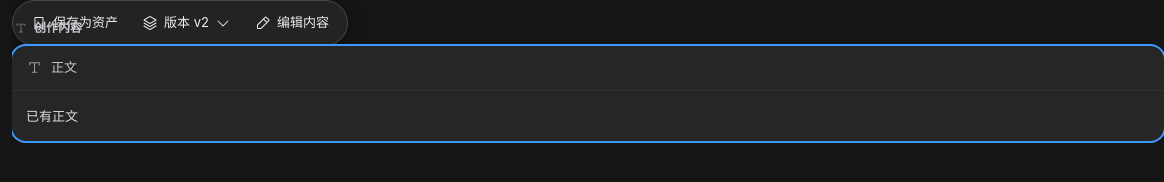
Scenario: ContentCanvasCard › keeps the version in the toolbar and shows an exit action during editing
Click the button "编辑内容" at x=292, y=23, box left=245, top=7, right=339, bottom=39
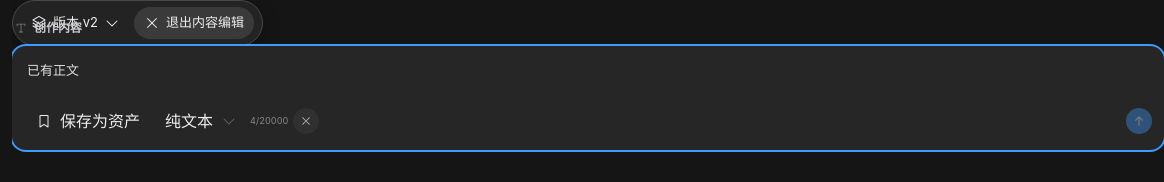
Type "，本地输入" into the text box named "内容" at x=588, y=70, box left=24, top=54, right=1152, bottom=87
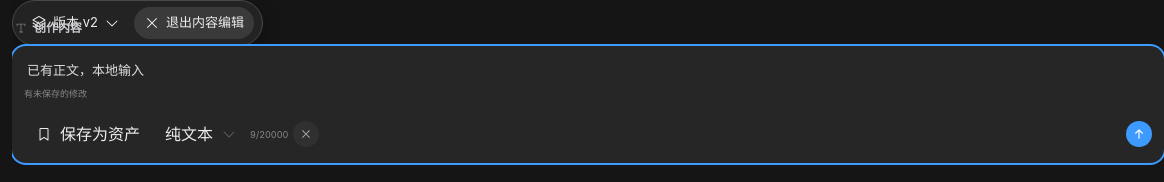
Check: the button "退出内容编辑" is enabled, box left=134, top=7, right=254, bottom=39
Check: the text box named "内容" holds "已有正文，本地输入", box left=24, top=54, right=1152, bottom=87
